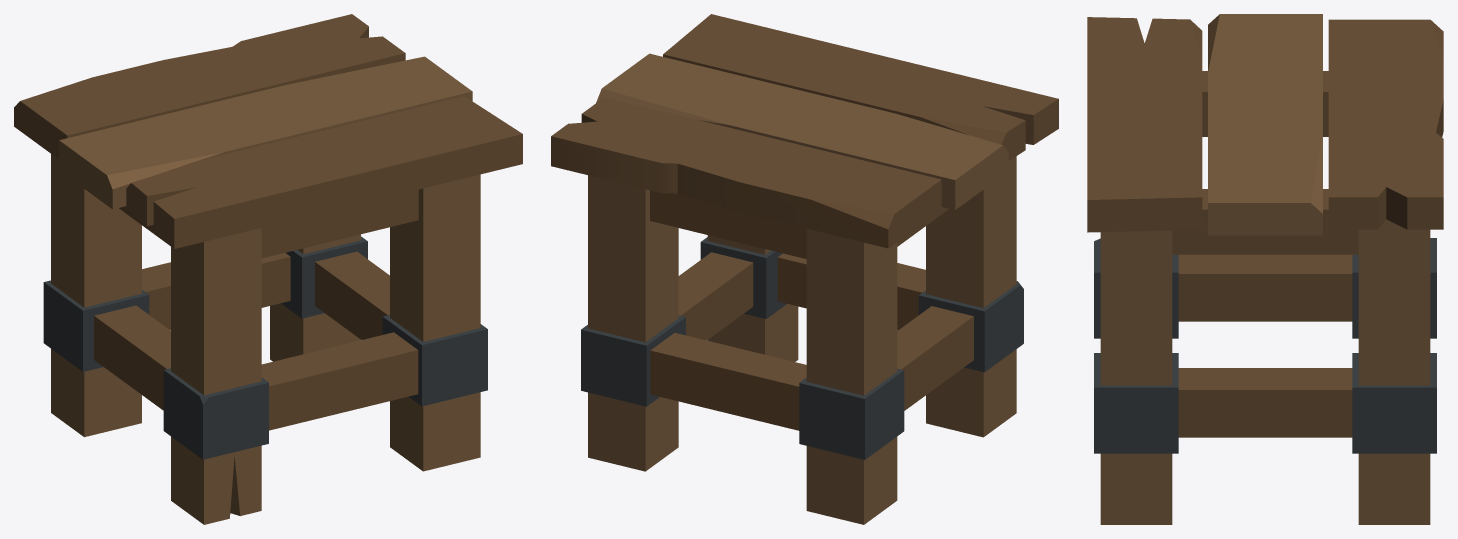
The model's file is Furniture_05.fbx.
3 views of the same model, side by side, from view 1: azimuth 30°, elevation 25°; view 2: azimuth 150°, elevation 25°; view 3: azimuth 270°, elevation 25° (orthographic). The views are drawn at different scales.
Visible parts, largest first — view 1: Furniture_05; view 2: Furniture_05; view 3: Furniture_05.
Boxes of the visible parts, x1,y1,x2,y2 form: Furniture_05: [14, 14, 522, 524]; Furniture_05: [551, 14, 1058, 524]; Furniture_05: [1087, 14, 1443, 524].
Size of the model in its own units: 50.95 by 43.18 by 40.6.
